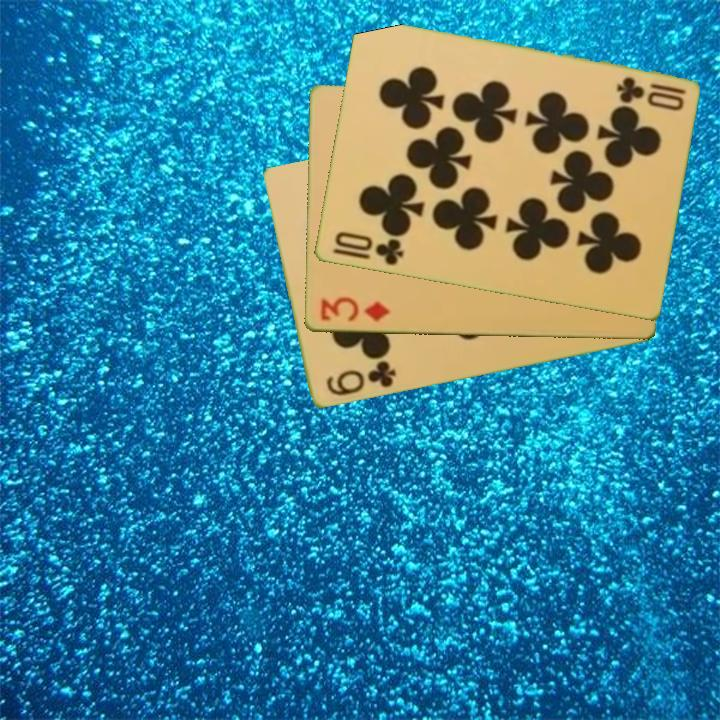10c: (331, 228, 406, 269), (612, 73, 688, 104)
3d: (317, 294, 392, 325)
6c: (322, 357, 399, 400)
